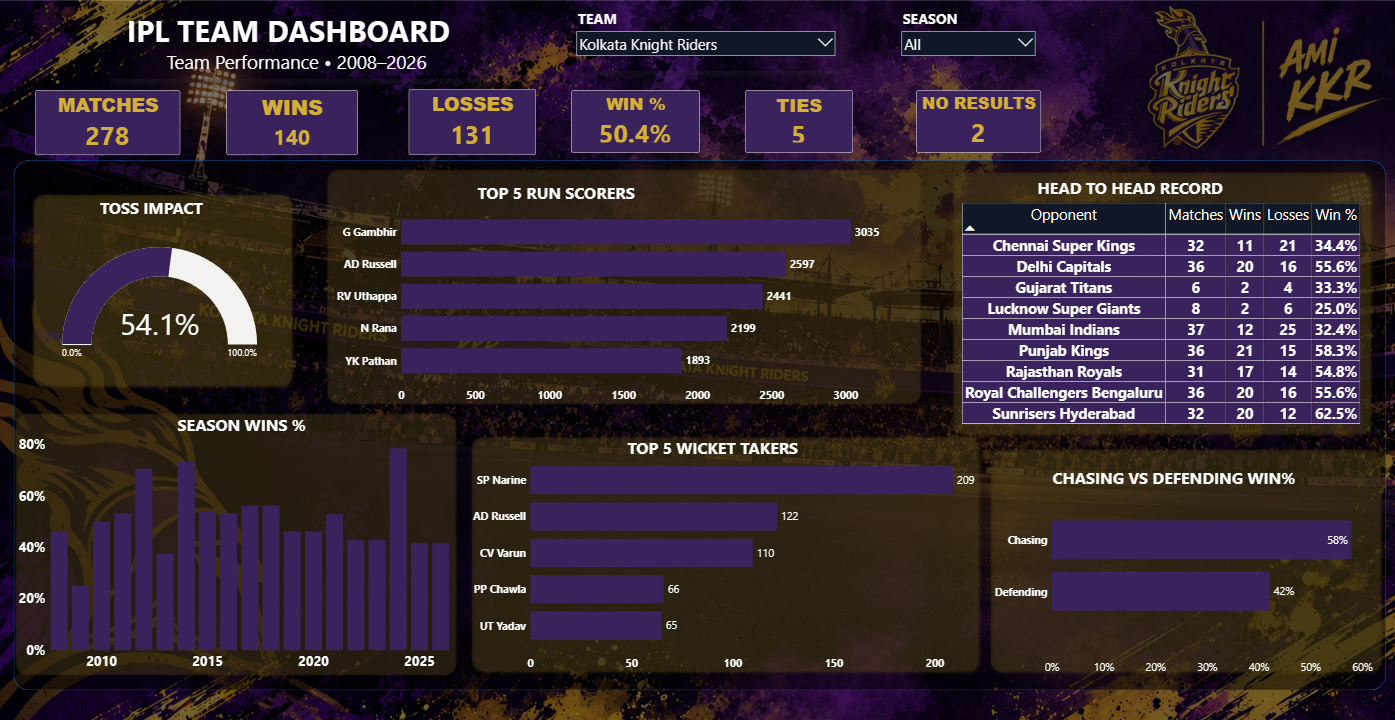

The page's visual inventory and layout, read from the dashboard file:
{"tool":"powerbi","page":{"name":"Page 1","canvas":[2800,1450],"ordinal":0},"visuals":[{"type":"image","box":[0,2.3,2800,1448.5],"z":0},{"type":"shape","box":[0,2.3,2800,1448.5],"z":1000},{"type":"shape","box":[27.2,322.3,2744.3,1060],"z":2000},{"type":"shape","box":[56.7,383.6,535.7,401.8],"z":2500},{"type":"shape","box":[649.2,338.2,1196.2,476.7],"z":2750},{"type":"shape","box":[935.6,868.6,1032.7,487.5],"z":2875},{"type":"shape","box":[27.2,824,889.8,531.2],"z":2937},{"type":"shape","box":[1897.6,338.2,853.5,542.5],"z":2968},{"type":"shape","box":[1972.5,892.1,799,463.1],"z":2984},{"type":"slicer","fields":{"Values":["Dim_Team.Team_Name"]},"box":[1143.6,13.9,538.3,129.4],"z":3000},{"type":"slicer","fields":{"Values":["Dim_Date.Year"]},"box":[1792.7,13.9,288.8,129.4],"z":4000},{"type":"textbox","box":[219.5,18.5,746.2,143.2],"z":5000},{"type":"cardVisual","title":"MATCHES","fields":{"Data":["Dim_Date.Matches Played"]},"box":[70.4,181.6,290.5,129.4],"z":6000},{"type":"cardVisual","title":"WINS","fields":{"Data":["Fact_Match.Wins"]},"box":[452.8,182.5,263.4,129.4],"z":8000},{"type":"cardVisual","title":"LOSSES","fields":{"Data":["Fact_Match.Losses"]},"box":[817.2,179.3,254.2,131.7],"z":9000},{"type":"cardVisual","title":"WIN %","fields":{"Data":["Fact_Match.Win %"]},"box":[1143.6,182.5,256.4,124.8],"z":10000},{"type":"cardVisual","title":"TIES","fields":{"Data":["Fact_Match.Ties"]},"box":[1489,181.6,215.6,124.8],"z":11000},{"type":"cardVisual","title":"NO RESULTS","fields":{"Data":["Fact_Match.No Results"]},"box":[1832,182.5,249.5,124.8],"z":12000},{"type":"clusteredBarChart","title":"Top 5 Run Scorers","fields":{"Y":["Dim_Date.Total Runs"],"Category":["Fact_Ball.batter"]},"box":[667.3,401.8,1125.9,415.4],"z":13000},{"type":"clusteredBarChart","title":"Top 5 Wicket Takers","fields":{"Category":["Fact_Ball.bowler"],"Y":["Fact_Ball.Total Wickets"]},"box":[940.3,891.7,1032.7,462],"z":14000},{"type":"tableEx","title":"HEAD-TO-HEAD RECORD","fields":{"Values":["H2H Opponents.Opponent","Dim_Date.H2H Matches","Dim_Date.H2H Wins","Dim_Date.H2H Losses","Dim_Date.H2H Win %"]},"box":[1918.1,401.8,810.4,469.9],"z":15000},{"type":"clusteredBarChart","title":"Chasing vs Defending","fields":{"Category":["Match Situation.Situation"],"Y":["Match Situation.Situation Win %"]},"box":[1988.4,937.5,783.1,419.9],"z":16000},{"type":"clusteredColumnChart","title":"Season Wins","fields":{"Y":["Dim_Date.Season Win %"],"Category":["Dim_Date.Year"]},"box":[32.3,868.6,884.8,485.1],"z":17000},{"type":"gauge","title":"Toss Impact","fields":{"Y":["Dim_Date.Toss Win Match %"]},"box":[70.4,474.4,449.4,272.4],"z":18000},{"type":"textbox","box":[196,390,301.9,72.6],"z":19000},{"type":"textbox","box":[950,360,397.2,81.7],"z":20000},{"type":"textbox","box":[2070,350,492.6,145.3],"z":21000},{"type":"textbox","box":[350,825,300,300],"z":22000},{"type":"textbox","box":[1250,870,399.7,83.2],"z":23000},{"type":"textbox","box":[2100,930,559.1,122.4],"z":24000}]}

Visuals, with their boxes in screenshot pixels (x1, y1, x2, y2), scaled from the page's 2800x1450 canvas onto the 1395x720 screenshot:
image: box(0, 1, 1394, 719)
shape: box(0, 1, 1394, 719)
shape: box(14, 160, 1381, 686)
shape: box(28, 190, 295, 390)
shape: box(323, 168, 919, 405)
shape: box(466, 431, 981, 673)
shape: box(14, 409, 457, 673)
shape: box(945, 168, 1371, 437)
shape: box(983, 443, 1381, 673)
slicer - Dim_Team.Team_Name: box(570, 7, 838, 71)
slicer - Dim_Date.Year: box(893, 7, 1037, 71)
textbox: box(109, 9, 481, 80)
"MATCHES" cardVisual: box(35, 90, 180, 154)
"WINS" cardVisual: box(226, 91, 357, 155)
"LOSSES" cardVisual: box(407, 89, 534, 154)
"WIN %" cardVisual: box(570, 91, 698, 153)
"TIES" cardVisual: box(742, 90, 849, 152)
"NO RESULTS" cardVisual: box(913, 91, 1037, 153)
"Top 5 Run Scorers" clusteredBarChart: box(332, 200, 893, 406)
"Top 5 Wicket Takers" clusteredBarChart: box(468, 443, 983, 672)
"HEAD-TO-HEAD RECORD" tableEx: box(956, 200, 1359, 433)
"Chasing vs Defending" clusteredBarChart: box(991, 466, 1381, 674)
"Season Wins" clusteredColumnChart: box(16, 431, 457, 672)
"Toss Impact" gauge: box(35, 236, 259, 371)
textbox: box(98, 194, 248, 230)
textbox: box(473, 179, 671, 219)
textbox: box(1031, 174, 1277, 246)
textbox: box(174, 410, 324, 559)
textbox: box(623, 432, 822, 473)
textbox: box(1046, 462, 1325, 523)
